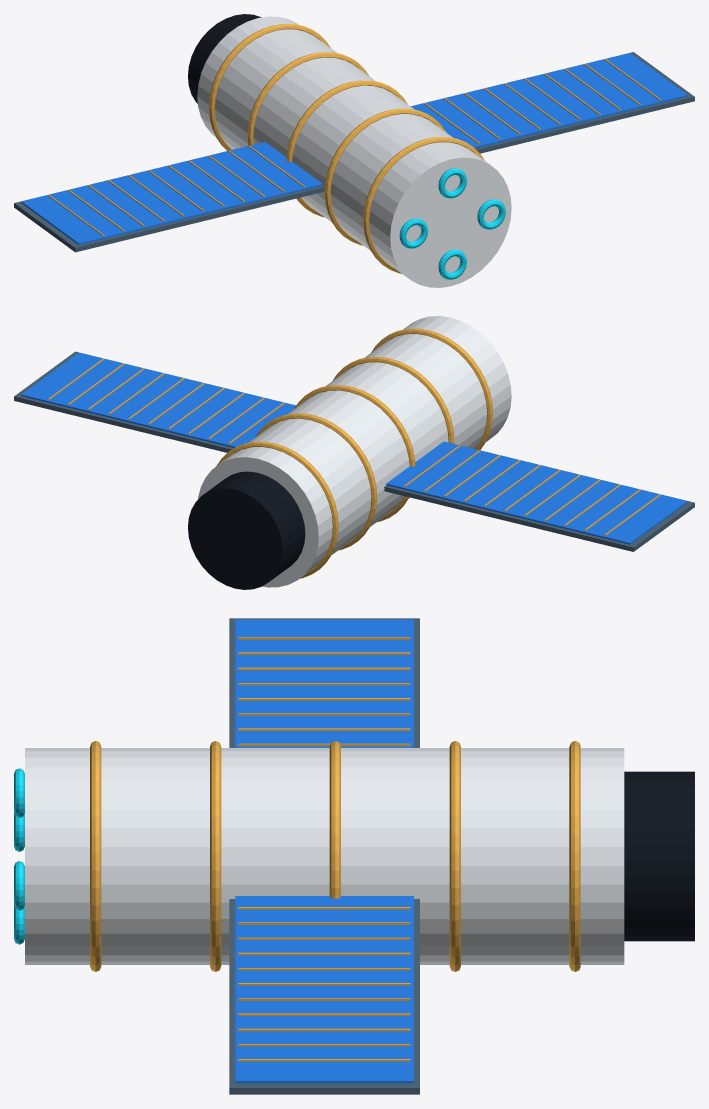
File: 03_L92_Aurora1AsteroidOrbitStage.fbx
The picture shows the model from 3 angles, top to bottom: view 1: azimuth 30°, elevation 25°; view 2: azimuth 150°, elevation 25°; view 3: azimuth 270°, elevation 25°; orthographic projection. The views are drawn at different scales.
Visible parts, largest first — view 1: L92_Aurora1AsteroidOrbitStage_Part_0000, L92_Aurora1AsteroidOrbitStage_Part_0005, L92_Aurora1AsteroidOrbitStage_Part_0002, L92_Aurora1AsteroidOrbitStage_Part_0004, L92_Aurora1AsteroidOrbitStage_Part_0006, L92_Aurora1AsteroidOrbitStage_Part_0003, L92_Aurora1AsteroidOrbitStage_Part_0001; view 2: L92_Aurora1AsteroidOrbitStage_Part_0000, L92_Aurora1AsteroidOrbitStage_Part_0005, L92_Aurora1AsteroidOrbitStage_Part_0001, L92_Aurora1AsteroidOrbitStage_Part_0002, L92_Aurora1AsteroidOrbitStage_Part_0004, L92_Aurora1AsteroidOrbitStage_Part_0003; view 3: L92_Aurora1AsteroidOrbitStage_Part_0000, L92_Aurora1AsteroidOrbitStage_Part_0005, L92_Aurora1AsteroidOrbitStage_Part_0002, L92_Aurora1AsteroidOrbitStage_Part_0001, L92_Aurora1AsteroidOrbitStage_Part_0004, L92_Aurora1AsteroidOrbitStage_Part_0003, L92_Aurora1AsteroidOrbitStage_Part_0006.
Part boxes in pixels (x1,y1,x2,y2): L92_Aurora1AsteroidOrbitStage_Part_0000: (197, 16, 511, 287); L92_Aurora1AsteroidOrbitStage_Part_0005: (21, 53, 687, 244); L92_Aurora1AsteroidOrbitStage_Part_0002: (48, 24, 484, 273); L92_Aurora1AsteroidOrbitStage_Part_0004: (14, 52, 694, 252); L92_Aurora1AsteroidOrbitStage_Part_0006: (399, 168, 505, 279); L92_Aurora1AsteroidOrbitStage_Part_0003: (424, 59, 660, 144); L92_Aurora1AsteroidOrbitStage_Part_0001: (188, 14, 261, 103); L92_Aurora1AsteroidOrbitStage_Part_0000: (198, 316, 511, 587); L92_Aurora1AsteroidOrbitStage_Part_0005: (21, 352, 687, 544); L92_Aurora1AsteroidOrbitStage_Part_0001: (188, 471, 305, 589); L92_Aurora1AsteroidOrbitStage_Part_0002: (216, 328, 660, 578); L92_Aurora1AsteroidOrbitStage_Part_0004: (14, 351, 694, 551); L92_Aurora1AsteroidOrbitStage_Part_0003: (48, 358, 284, 444); L92_Aurora1AsteroidOrbitStage_Part_0000: (25, 748, 624, 964); L92_Aurora1AsteroidOrbitStage_Part_0005: (235, 619, 413, 1083); L92_Aurora1AsteroidOrbitStage_Part_0002: (90, 637, 580, 971); L92_Aurora1AsteroidOrbitStage_Part_0001: (624, 771, 694, 941); L92_Aurora1AsteroidOrbitStage_Part_0004: (229, 618, 419, 1094); L92_Aurora1AsteroidOrbitStage_Part_0003: (238, 907, 410, 1061); L92_Aurora1AsteroidOrbitStage_Part_0006: (14, 768, 24, 944).
Size of the model in its own units: 1020 by 212 by 625.
